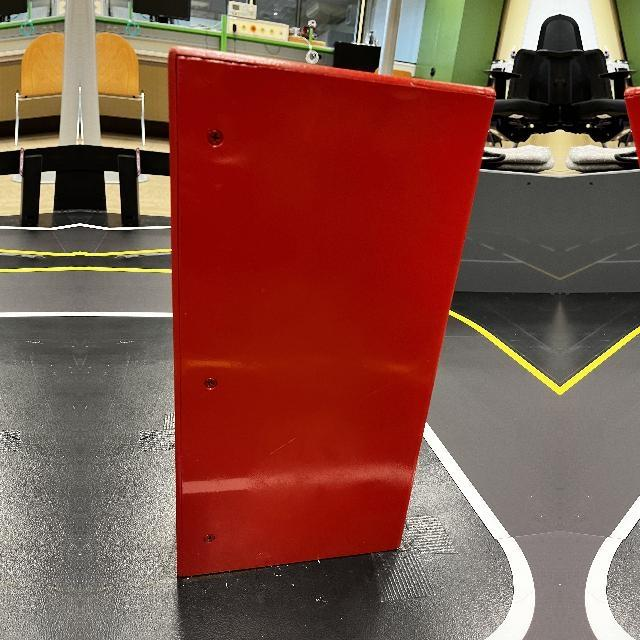obstacle: (159, 45, 496, 578), (623, 44, 640, 577)
